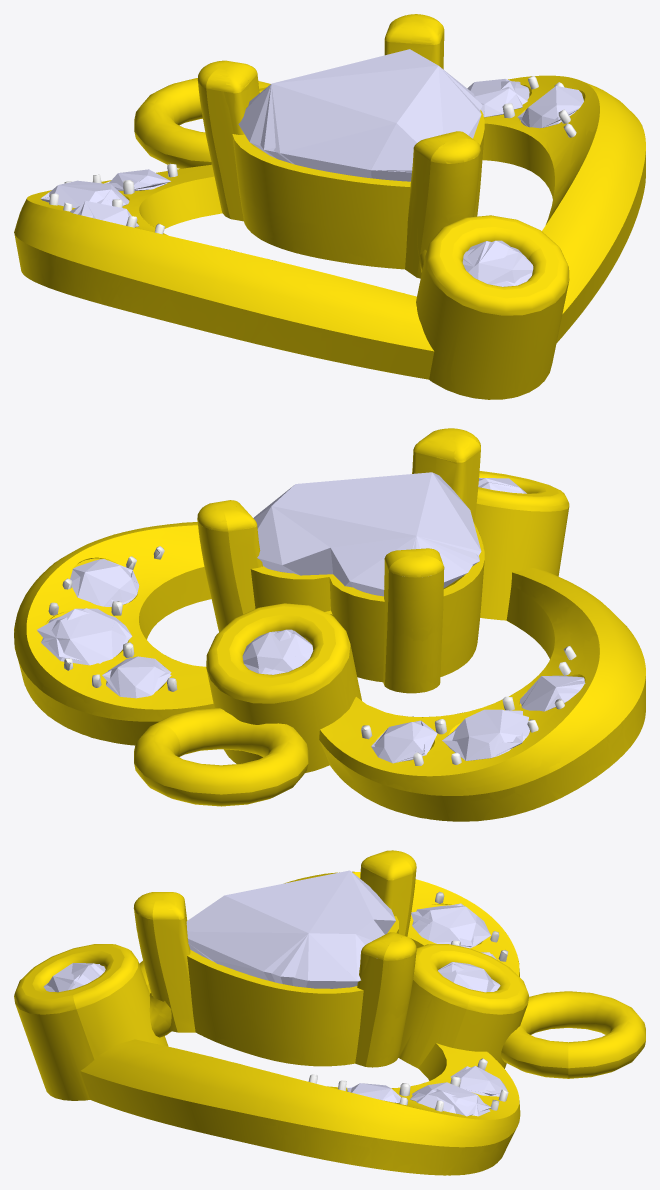
File: DPN-D000675387.glb
3 views of the same model, one above another, from view 1: azimuth 30°, elevation 25°; view 2: azimuth 150°, elevation 25°; view 3: azimuth 270°, elevation 25° (orthographic). The views are drawn at different scales.
Parts seen in each view (by area): view 1: highPolyMesh, lowPolyMesh; view 2: highPolyMesh, lowPolyMesh; view 3: highPolyMesh, lowPolyMesh.
Boxes of the visible parts, <box> form: highPolyMesh: <box>15,14,645,399</box>; lowPolyMesh: <box>14,14,645,399</box>; highPolyMesh: <box>14,428,645,821</box>; lowPolyMesh: <box>14,428,645,821</box>; highPolyMesh: <box>14,850,645,1175</box>; lowPolyMesh: <box>14,850,645,1175</box>.
Bounding box in the file's own units: 0.0114 × 0.00396 × 0.012.
